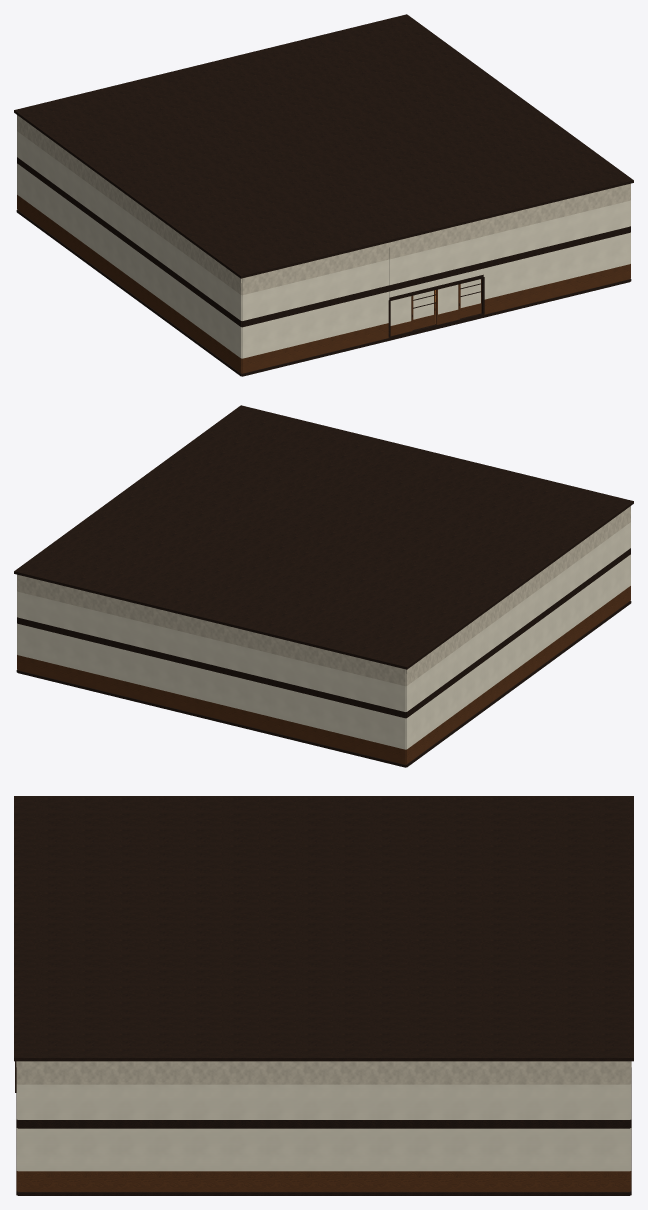
File: Dojo_Stage.fbx
3 views of the same model, one above another, from view 1: azimuth 30°, elevation 25°; view 2: azimuth 150°, elevation 25°; view 3: azimuth 270°, elevation 25° (orthographic). The views are drawn at different scales.
Parts seen in each view (by area): view 1: Ceiling, Shoji_W+0, ShojiU_W+0, Shoji_S+10, Shoji_S-10, ShojiU_S+10, ShojiU_S-10, Wain_W+0, Plast_W+0, Nageshi_S, ShojiUS, Wain_S-10 (+14 smaller); view 2: Ceiling, Shoji_N+0, ShojiU_N+0, Shoji_W+0, Wain_N+0, ShojiU_W+0, Plast_N+0, Wain_W+0, Plast_W+0, Nageshi_N, Frieze_N, Nageshi_W (+3 smaller); view 3: Ceiling, Shoji_E+0, ShojiU_E+0, Wain_E+0, Plast_E+0, Nageshi_E, Frieze_E, Skirt_E.
Part boxes in pixels (x1,y1,x2,y2): Ceiling: (14, 14, 633, 278); Shoji_W+0: (17, 163, 241, 358); ShojiU_W+0: (17, 131, 241, 320); Shoji_S+10: (483, 232, 630, 299); Shoji_S-10: (242, 291, 389, 358); ShojiU_S+10: (483, 200, 630, 261); ShojiU_S-10: (242, 259, 389, 320); Wain_W+0: (17, 195, 241, 373); Plast_W+0: (17, 119, 241, 294); Nageshi_S: (242, 226, 630, 327); ShojiUS: (389, 236, 483, 285); Wain_S-10: (242, 323, 388, 373); Ceiling: (14, 405, 633, 669); Shoji_N+0: (17, 623, 405, 749); ShojiU_N+0: (17, 591, 405, 711); Shoji_W+0: (406, 554, 630, 749); Wain_N+0: (17, 655, 405, 764); ShojiU_W+0: (406, 522, 630, 711); Plast_N+0: (17, 579, 405, 686); Wain_W+0: (406, 586, 630, 764); Plast_W+0: (406, 510, 630, 685); Nageshi_N: (17, 617, 405, 718); Frieze_N: (17, 574, 405, 673); Nageshi_W: (406, 548, 630, 718); Ceiling: (14, 796, 633, 1061); Shoji_E+0: (17, 1128, 630, 1171); ShojiU_E+0: (17, 1084, 630, 1119); Wain_E+0: (17, 1171, 630, 1191); Plast_E+0: (17, 1068, 630, 1084); Nageshi_E: (17, 1120, 630, 1128); Frieze_E: (17, 1061, 630, 1067); Skirt_E: (17, 1192, 630, 1195).
Size of the model in its own units: 4008 by 1002 by 4008.
